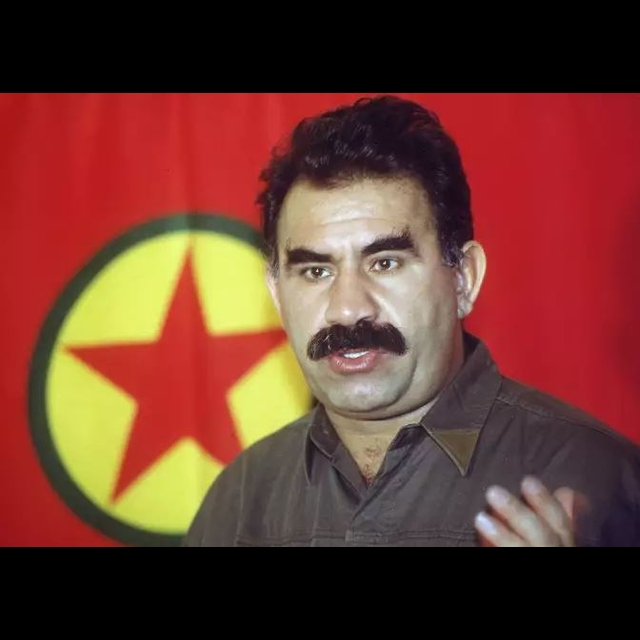APO: (261, 104, 476, 446)
